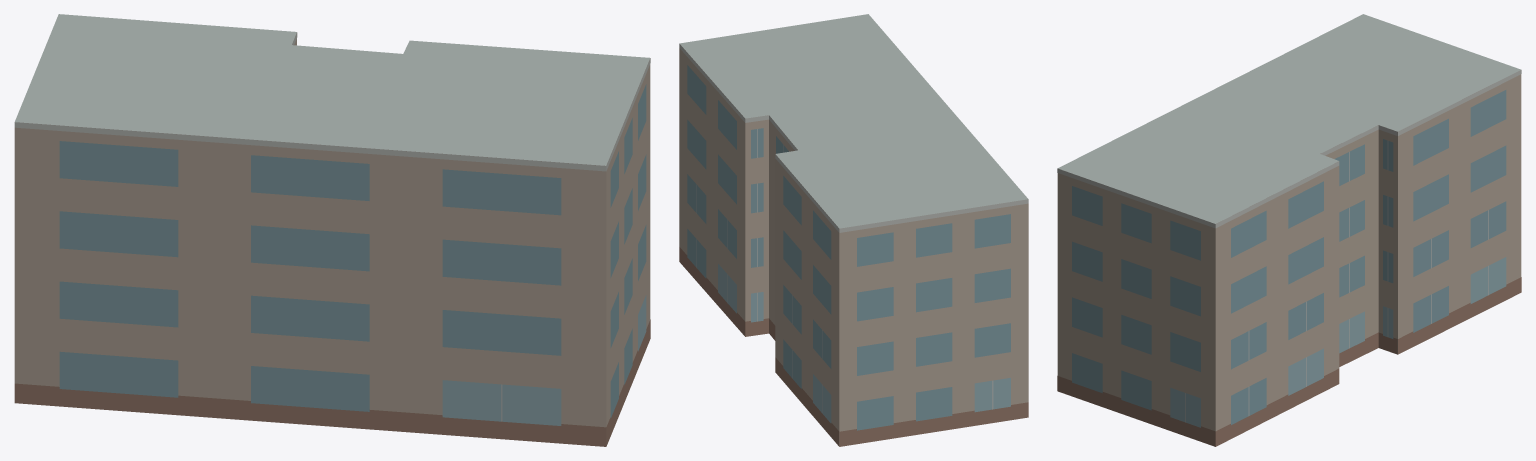
File: survey-upis-32705512.glb
The picture shows the model from 3 angles, left to right: view 1: azimuth 30°, elevation 25°; view 2: azimuth 150°, elevation 25°; view 3: azimuth 270°, elevation 25°; orthographic projection. The views are drawn at different scales.
Visible parts, largest first — view 1: survey-upis-32705512.tmp; view 2: survey-upis-32705512.tmp; view 3: survey-upis-32705512.tmp.
Part boxes in pixels (x1=…): survey-upis-32705512.tmp: x1=14, y1=14, x2=650, y2=446; survey-upis-32705512.tmp: x1=679, y1=14, x2=1028, y2=446; survey-upis-32705512.tmp: x1=1057, y1=14, x2=1521, y2=446.
Size of the model in its own units: 24.87 by 12.3 by 23.22.
